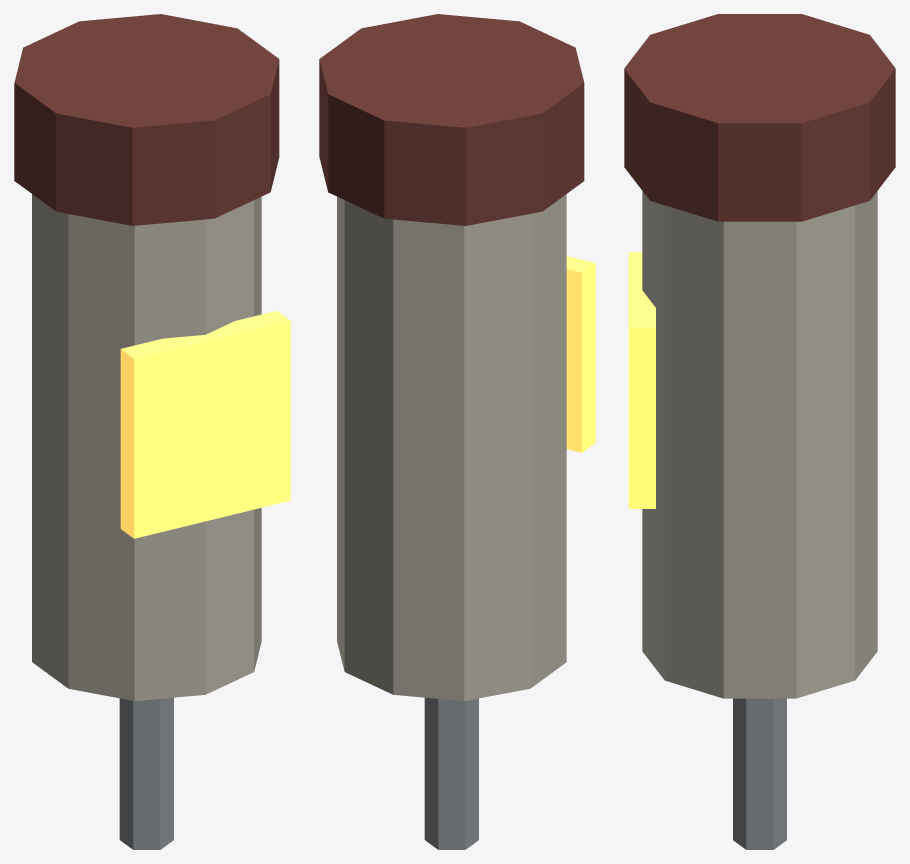
The model's file is item_kit_stim.glb.
3 renders of one model, left to right at view 1: azimuth 30°, elevation 25°; view 2: azimuth 150°, elevation 25°; view 3: azimuth 270°, elevation 25°, orthographic.
Parts seen in each view (by area): view 1: body, cap, label, needle; view 2: body, cap, needle, label; view 3: body, cap, needle, label.
Part boxes in pixels (box(x1,y1,x2,y2)): body: box(32, 194, 261, 701); cap: box(14, 14, 279, 225); label: box(120, 311, 290, 538); needle: box(119, 697, 173, 849); body: box(337, 194, 566, 700); cap: box(319, 14, 584, 225); needle: box(424, 697, 478, 849); label: box(566, 256, 595, 452); body: box(642, 191, 877, 698); cap: box(624, 14, 895, 221); needle: box(733, 698, 786, 849); label: box(628, 252, 655, 508).
Size of the model in its own units: 0.2853 by 0.94 by 0.3.
